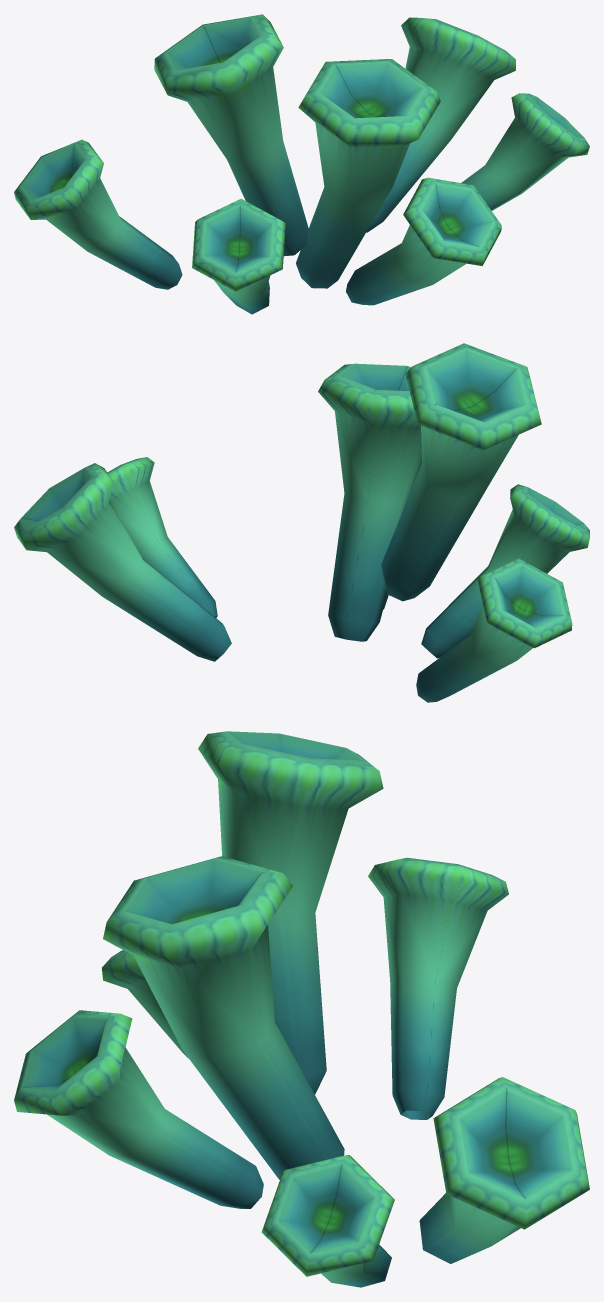
File: Coral_14f.FBX
3 renders of one model, top to bottom at view 1: azimuth 30°, elevation 25°; view 2: azimuth 150°, elevation 25°; view 3: azimuth 270°, elevation 25°, orthographic. The views are drawn at different scales.
Visible parts, largest first — view 1: Coral_14f; view 2: Coral_14f; view 3: Coral_14f.
Boxes of the visible parts, x1,y1,x2,y2 form: Coral_14f: [14, 14, 589, 314]; Coral_14f: [14, 343, 589, 702]; Coral_14f: [14, 731, 589, 1287].
Bounding box in the file's own units: 29.12 × 15.74 × 20.54.
